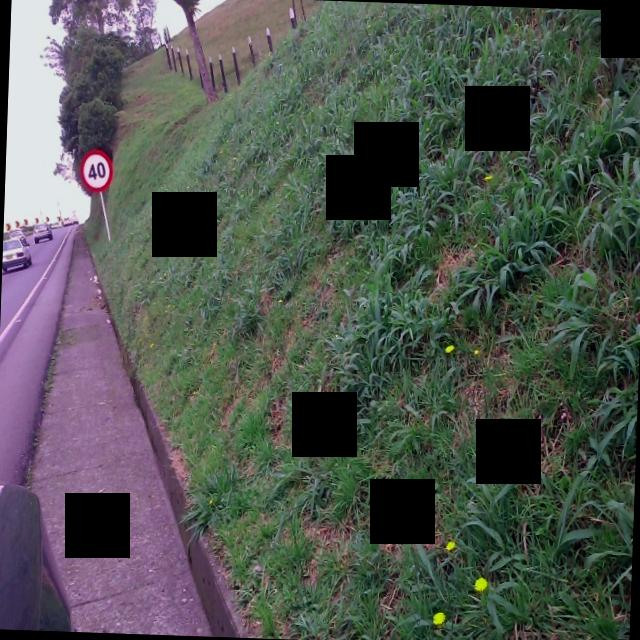DITCH: (18, 218, 264, 636)
